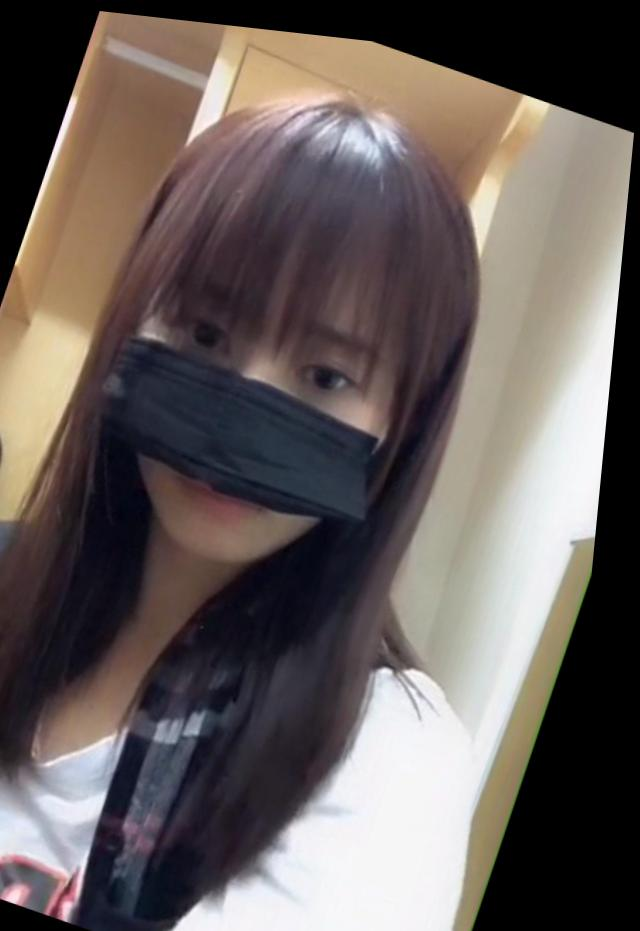WRONG: (55, 216, 451, 616)
